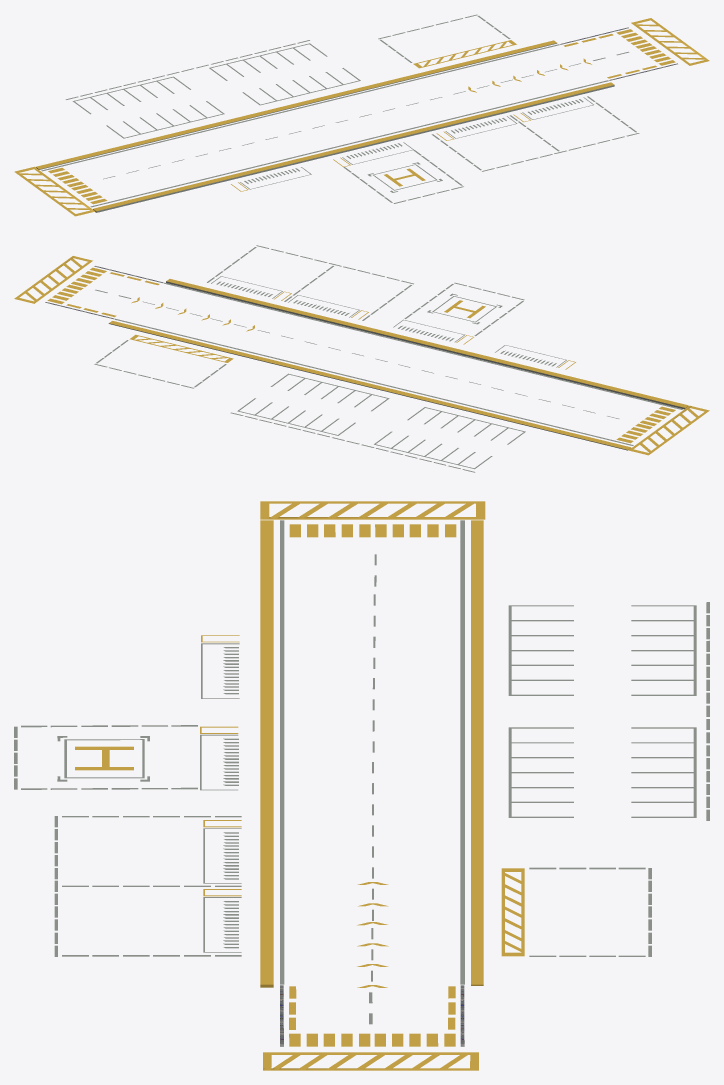
The model's file is RUNWAY.fbx.
The picture shows the model from 3 angles, top to bottom: view 1: azimuth 30°, elevation 25°; view 2: azimuth 150°, elevation 25°; view 3: azimuth 270°, elevation 25°; orthographic projection. The views are drawn at different scales.
Parts seen in each view (by area): view 1: White_Pattern, White_Pattern.002, White_Pattern.001; view 2: White_Pattern, White_Pattern.002, White_Pattern.001; view 3: White_Pattern, White_Pattern.002, White_Pattern.001.
Part boxes in pixels (x1,y1,x2,y2): White_Pattern: (14, 18, 709, 216); White_Pattern.002: (65, 14, 516, 138); White_Pattern.001: (231, 96, 639, 203); White_Pattern: (14, 256, 709, 455); White_Pattern.002: (94, 334, 525, 472); White_Pattern.001: (207, 245, 575, 369); White_Pattern: (260, 501, 485, 1070); White_Pattern.002: (501, 602, 709, 956); White_Pattern.001: (14, 635, 241, 956).
Size of the model in its own units: 23634 by 75.97 by 12209.
Materials: 1 (1 with a texture image).
